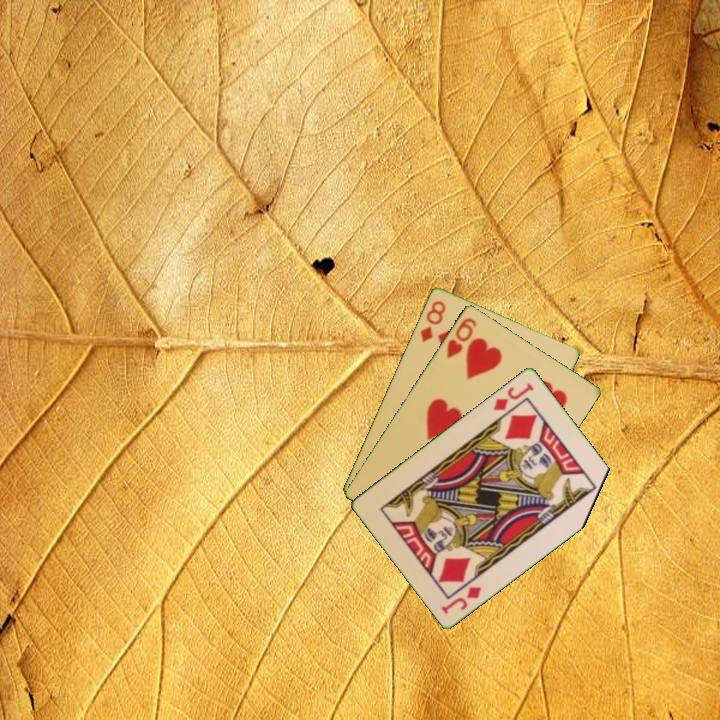6h: (443, 314, 480, 361)
8d: (416, 297, 449, 345)
Jd: (490, 378, 537, 413), (437, 582, 484, 617)
